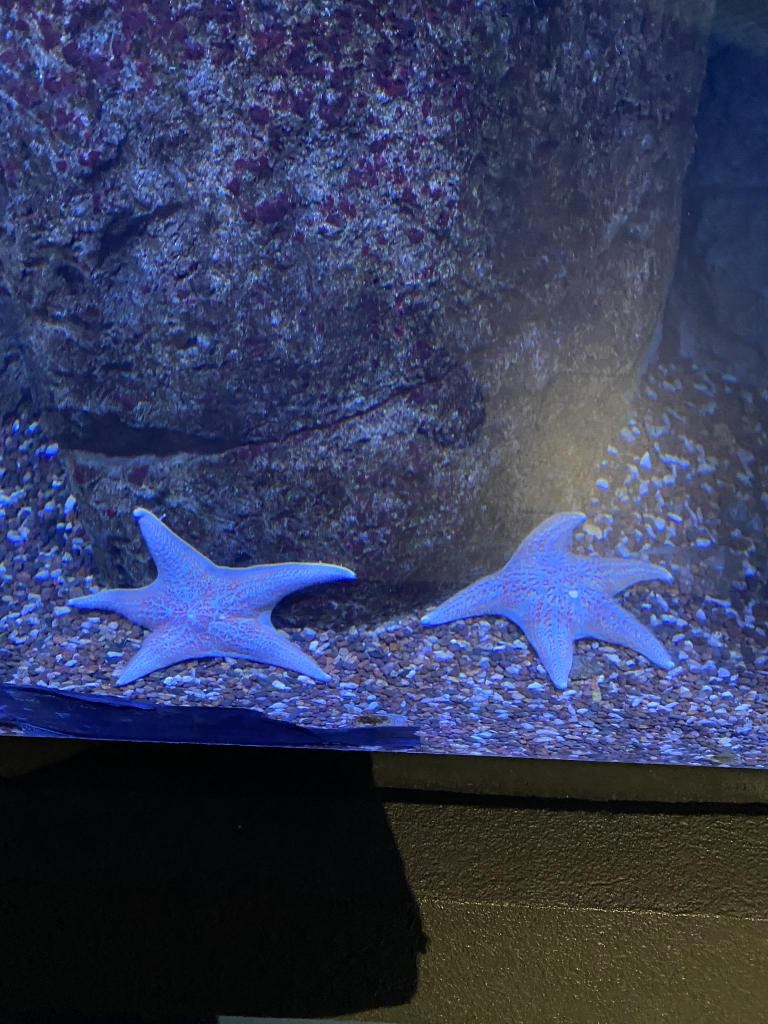starfish: (61, 506, 363, 688), (418, 502, 678, 690)
